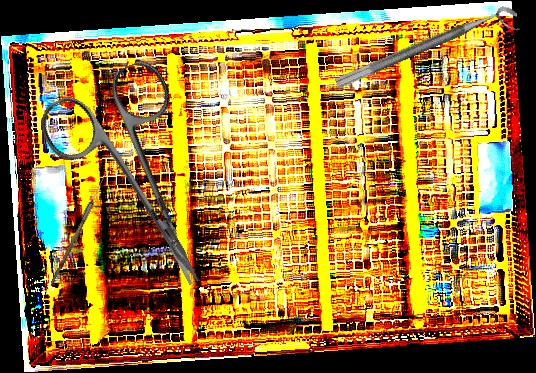Fixation Ring: (334, 2, 523, 104)
Iris Scissors: (32, 54, 250, 315)
Surgical Spoon: (50, 170, 109, 286)
